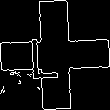L_N: (39, 29, 71, 81)
